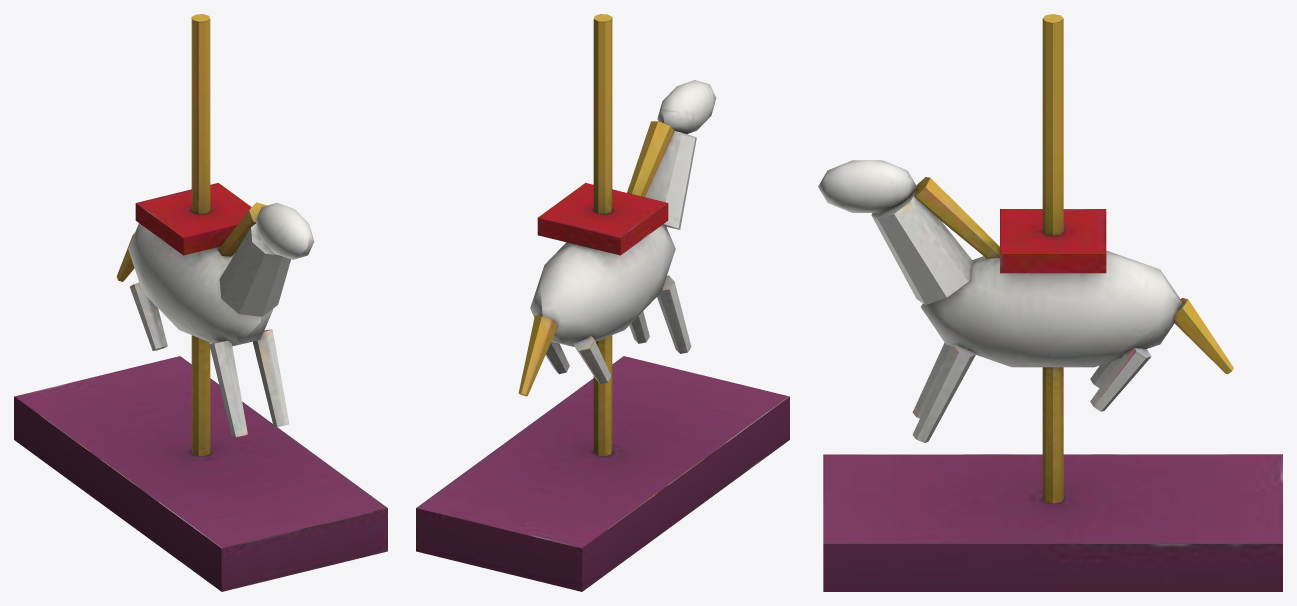
Rendered from caballito.glb.
3 renders of one model, left to right at view 1: azimuth 30°, elevation 25°; view 2: azimuth 150°, elevation 25°; view 3: azimuth 270°, elevation 25°, orthographic. The views are drawn at different scales.
Parts seen in each view (by area): view 1: caballito; view 2: caballito; view 3: caballito.
Boxes of the visible parts, bbox=[...] form: caballito: bbox=[14, 14, 387, 591]; caballito: bbox=[416, 14, 789, 591]; caballito: bbox=[818, 14, 1282, 591].
Bounding box in the file's own units: 1.2 × 3.3 × 2.63.
1 material, 1 textured.
